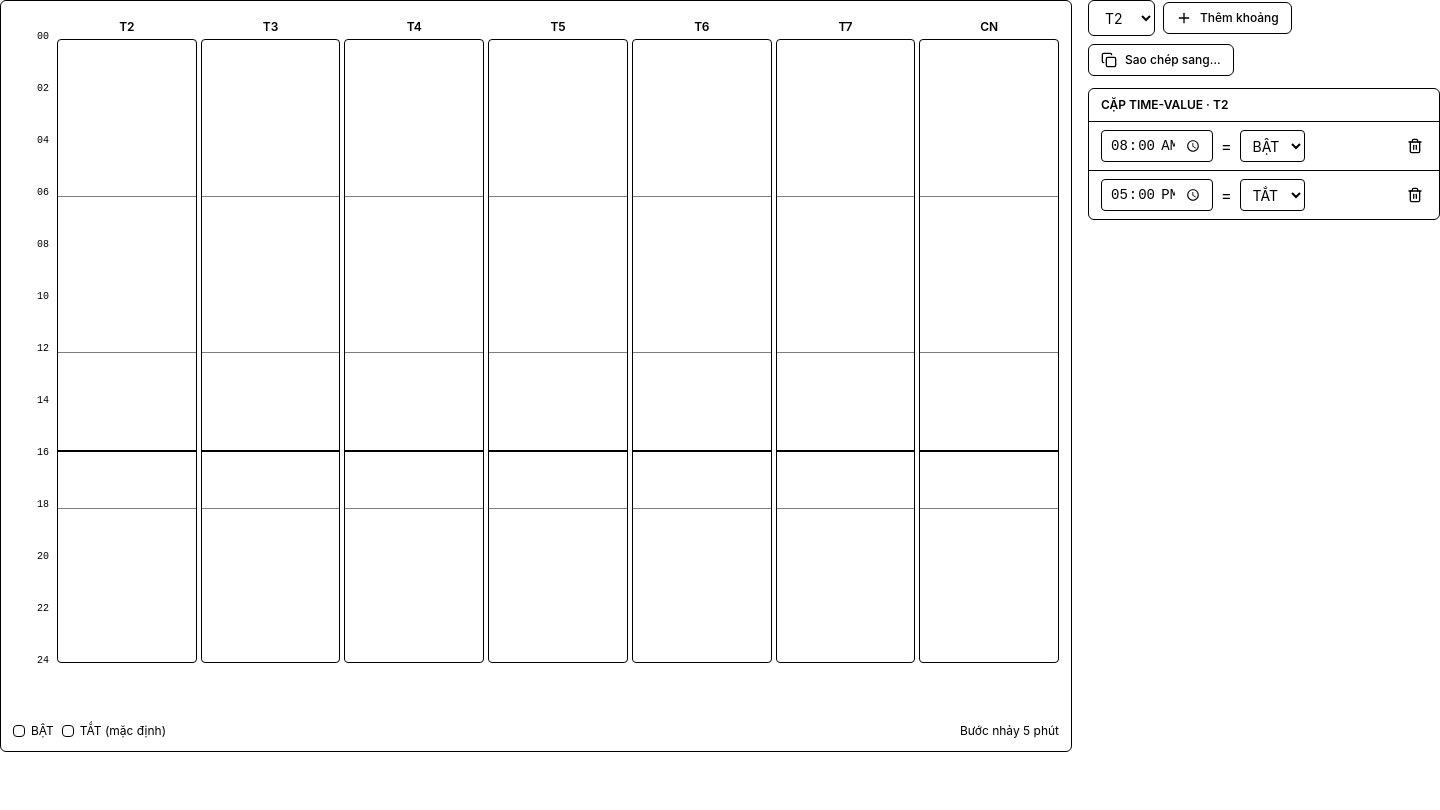
WeeklyTab Google Calendar interactions › double clicks on block opens edit modal
Double-click the button with aria-label "T2 08:00 - 17:00".
double_click(93, 258)  # box x1=64 y1=252 x2=122 y2=477
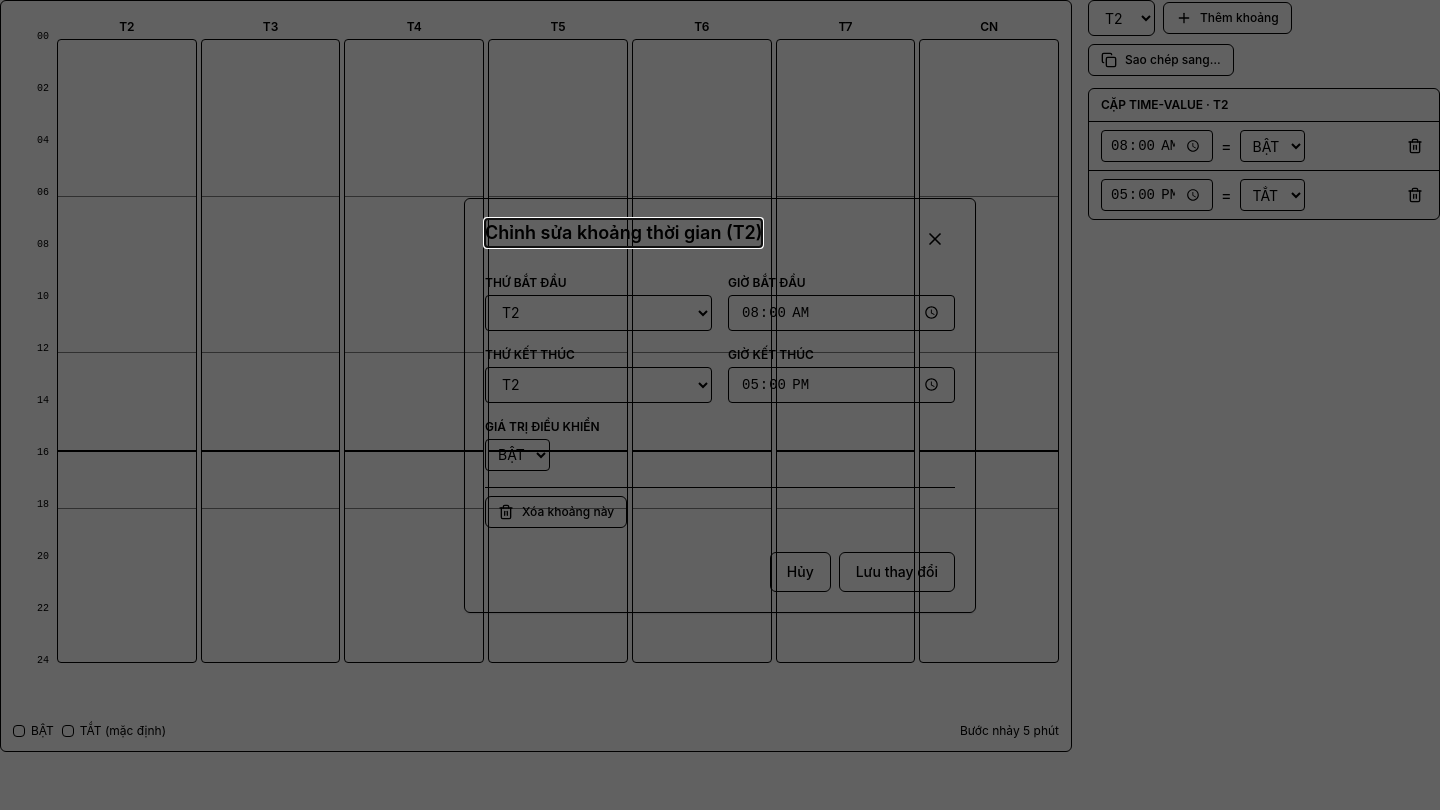
expect the heading "Chỉnh sửa khoảng thời gian (T2)" is shown: met, box x1=485 y1=218 x2=762 y2=246
expect the time field showing "08:00" below "Giờ bắt đầu" is shown: met, box x1=728 y1=294 x2=955 y2=330
expect the time field showing "17:00" below "Giờ kết thúc" is shown: met, box x1=728 y1=366 x2=955 y2=402
